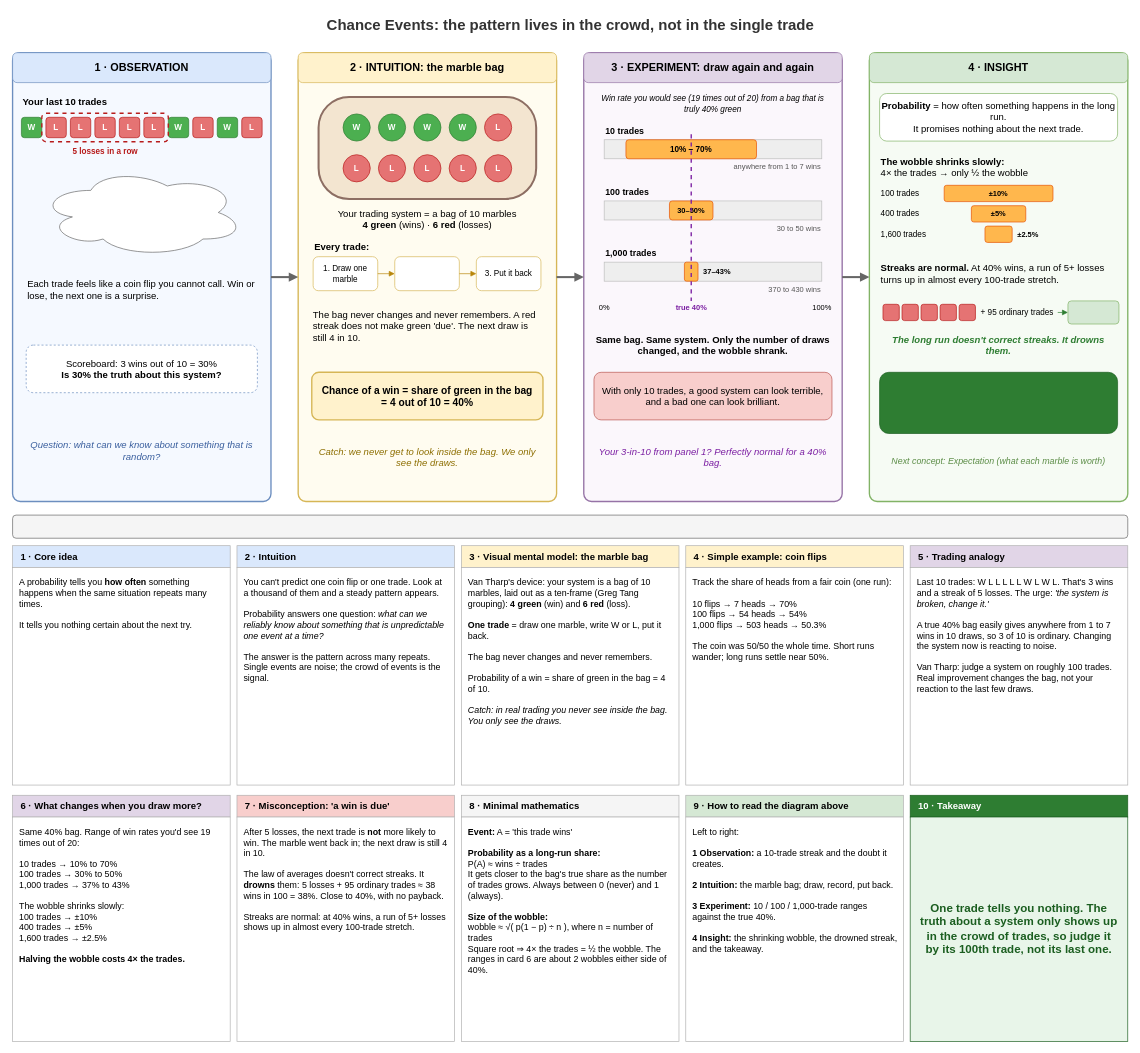
Image size: 1140x1053. Some labels were removed from this diagram. Each missing label, with the box of its shape:
2. Record W or L: (394, 256, 459, 291)
Is my system broken? Should I change it?: (39, 168, 244, 257)
Judge a system by its 100th trade, not its last one.: (879, 372, 1118, 434)
LESSON NOTES: the full explanation, for future reference: (12, 514, 1128, 538)
≈ 38% overall: (1067, 300, 1119, 324)
